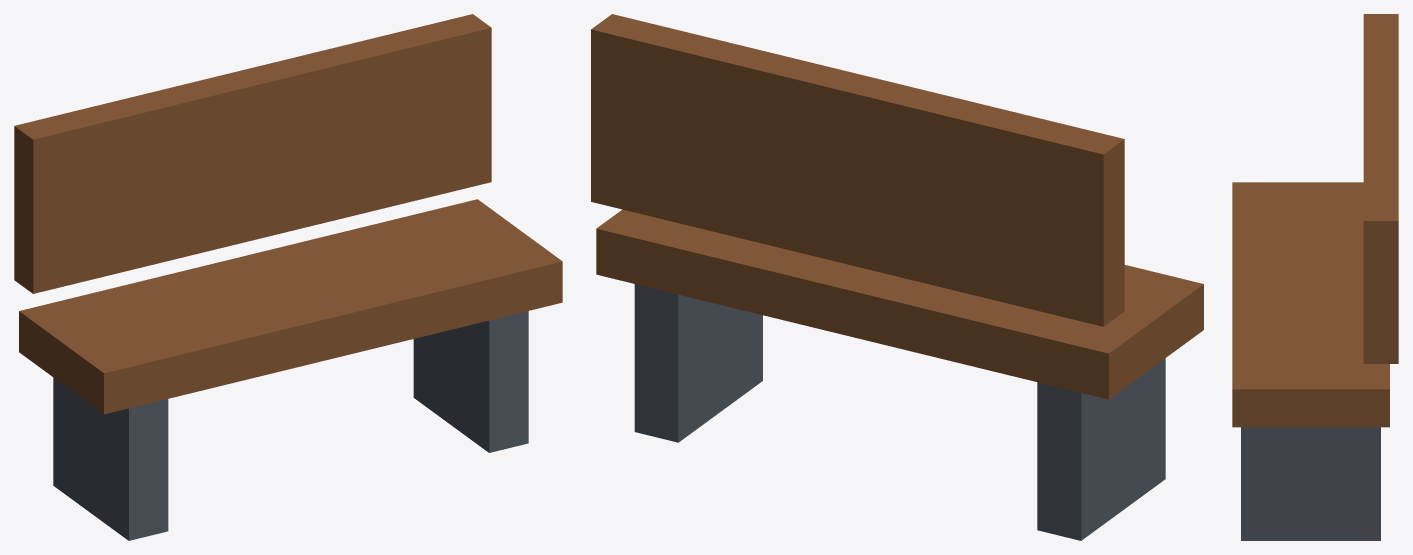
Rendered from bench.glb.
3 views of the same model, side by side, from view 1: azimuth 30°, elevation 25°; view 2: azimuth 150°, elevation 25°; view 3: azimuth 270°, elevation 25° (orthographic). The views are drawn at different scales.
Parts seen in each view (by area): view 1: bench; view 2: bench; view 3: bench.
Boxes of the visible parts, bbox=[...] form: bench: bbox=[14, 14, 562, 540]; bench: bbox=[591, 14, 1203, 540]; bench: bbox=[1232, 14, 1398, 540].
Bounding box in the file's own units: 0.14 × 0.105 × 0.0475.
